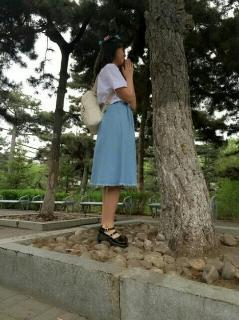short sleeve top: (97, 63, 129, 105)
skirt: (90, 101, 138, 186)
